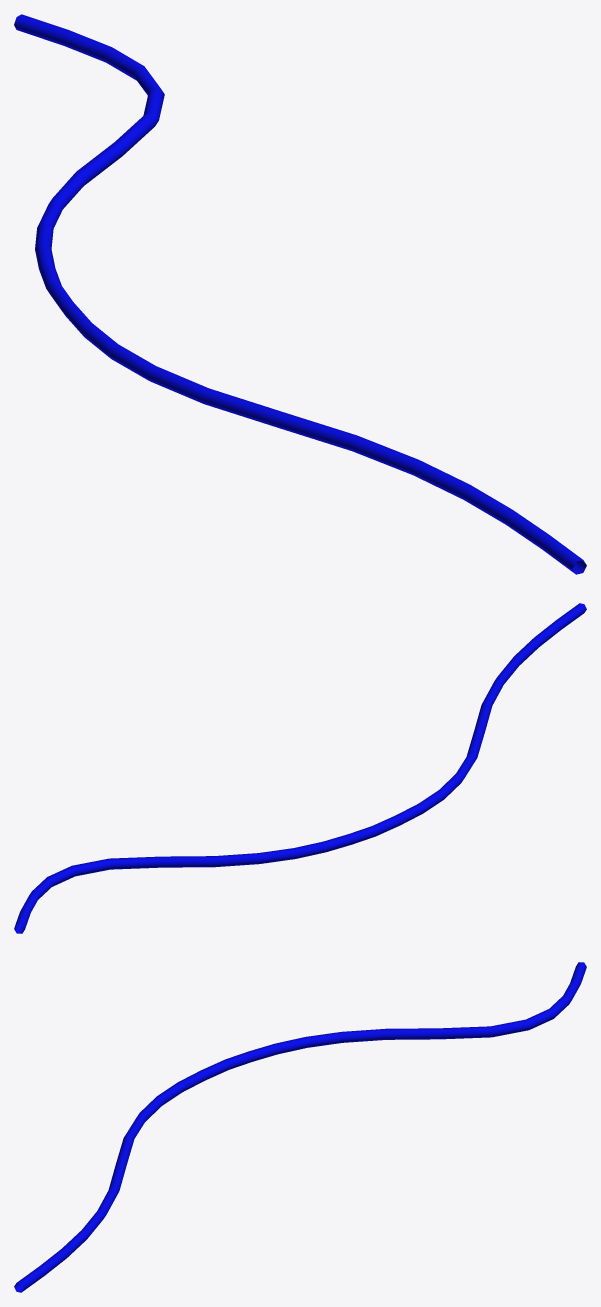
The picture shows the model from 3 angles, top to bottom: view 1: azimuth 30°, elevation 25°; view 2: azimuth 150°, elevation 25°; view 3: azimuth 330°, elevation 25°; orthographic projection. The views are drawn at different scales.
Visible parts, largest first — view 1: FC_2; view 2: FC_2; view 3: FC_2.
Boxes of the visible parts, box(x1,y1,x2,y2) form: FC_2: box(14, 14, 586, 574); FC_2: box(14, 603, 586, 933); FC_2: box(14, 962, 586, 1292).
Size of the model in its own units: 46.16 by 1.8 by 176.
